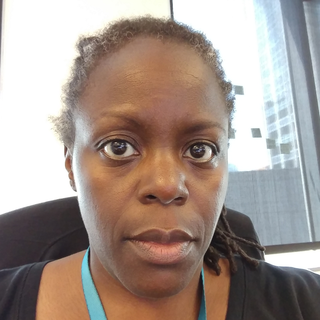eye: (94, 133, 142, 162), (178, 136, 221, 164)
